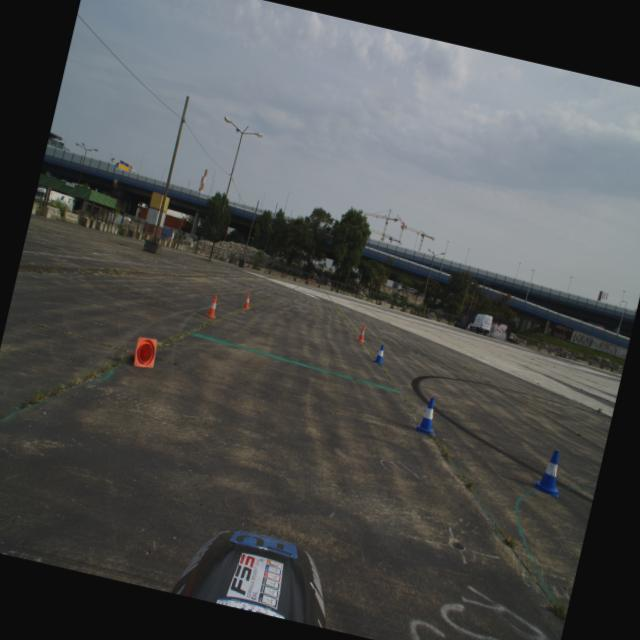blue_cone: (532, 447, 568, 498), (412, 395, 443, 437), (373, 343, 387, 365)
orange_cone: (128, 334, 160, 370), (204, 294, 222, 319), (241, 292, 253, 310), (356, 324, 367, 342)
